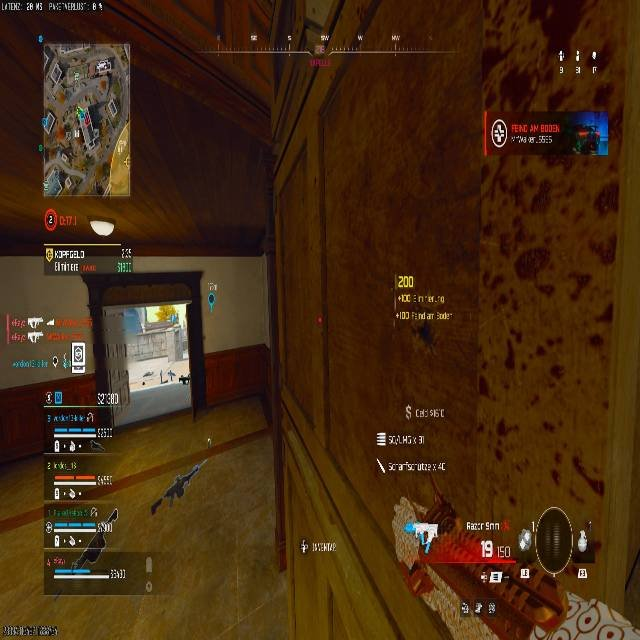head: (517, 507, 580, 574)
